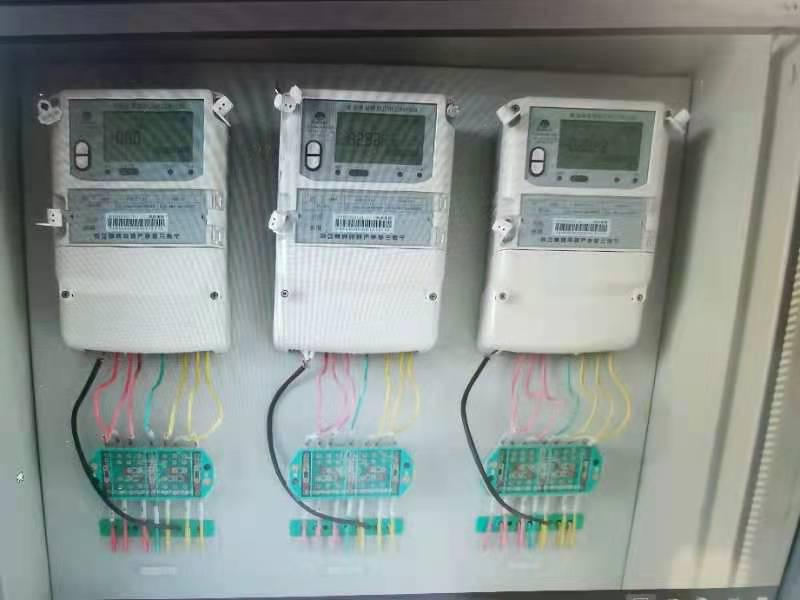digital: (50, 89, 232, 353), (271, 89, 453, 352), (483, 95, 668, 352)
